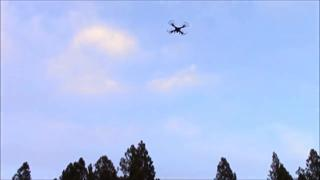UAV: (167, 20, 190, 36)
